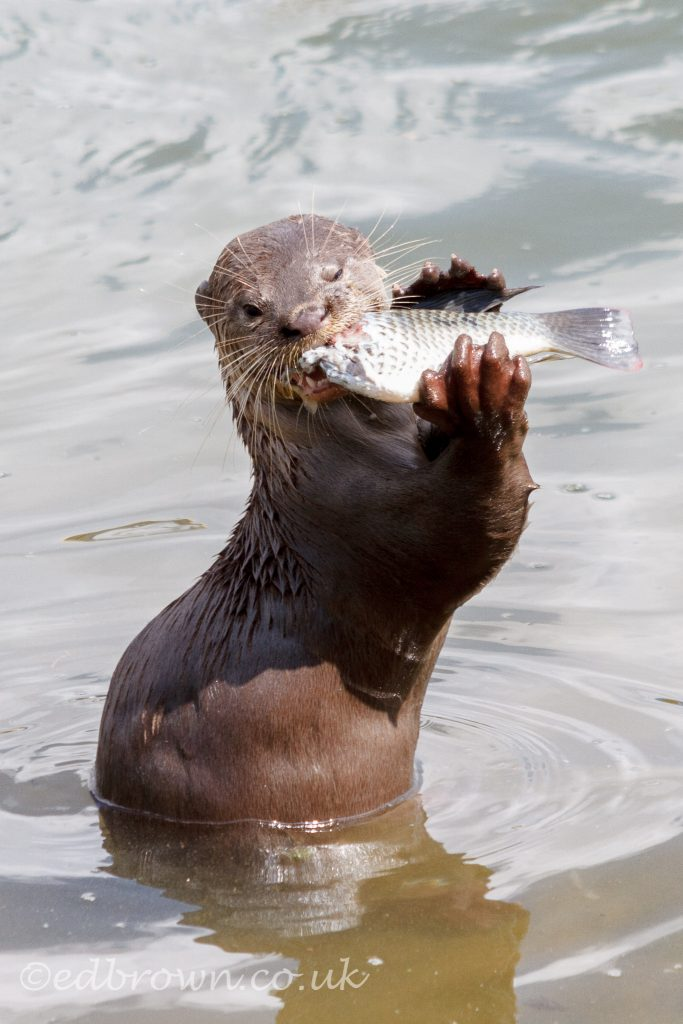otter: (83, 198, 535, 828)
